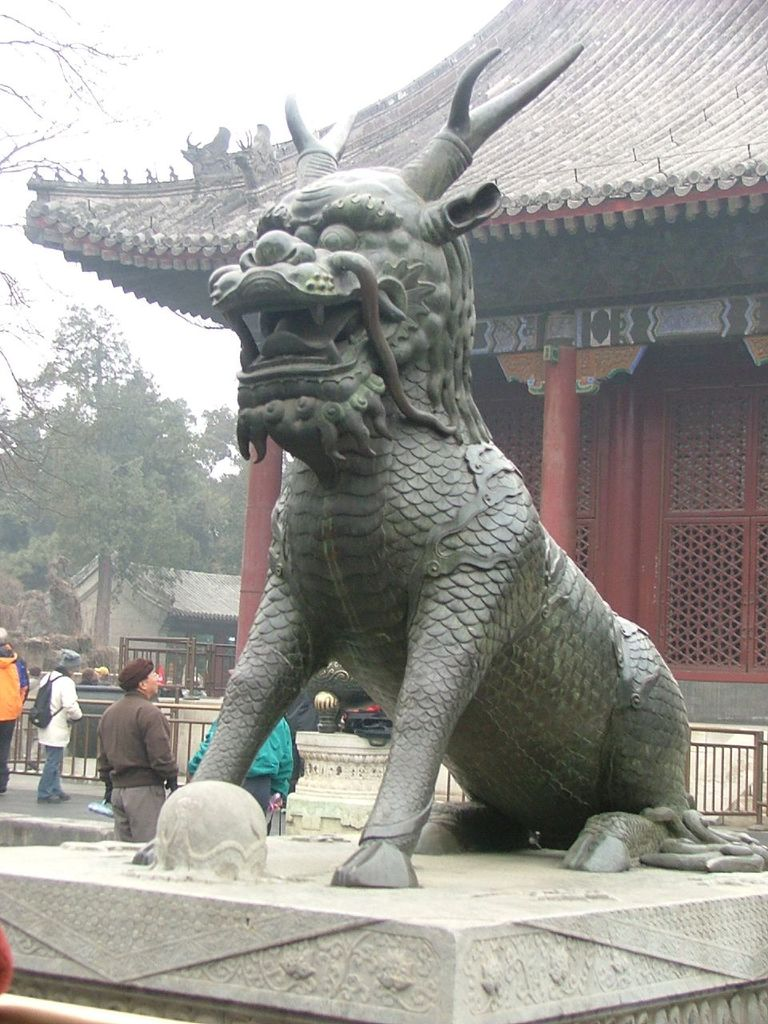Tree: (0, 0, 245, 681)
